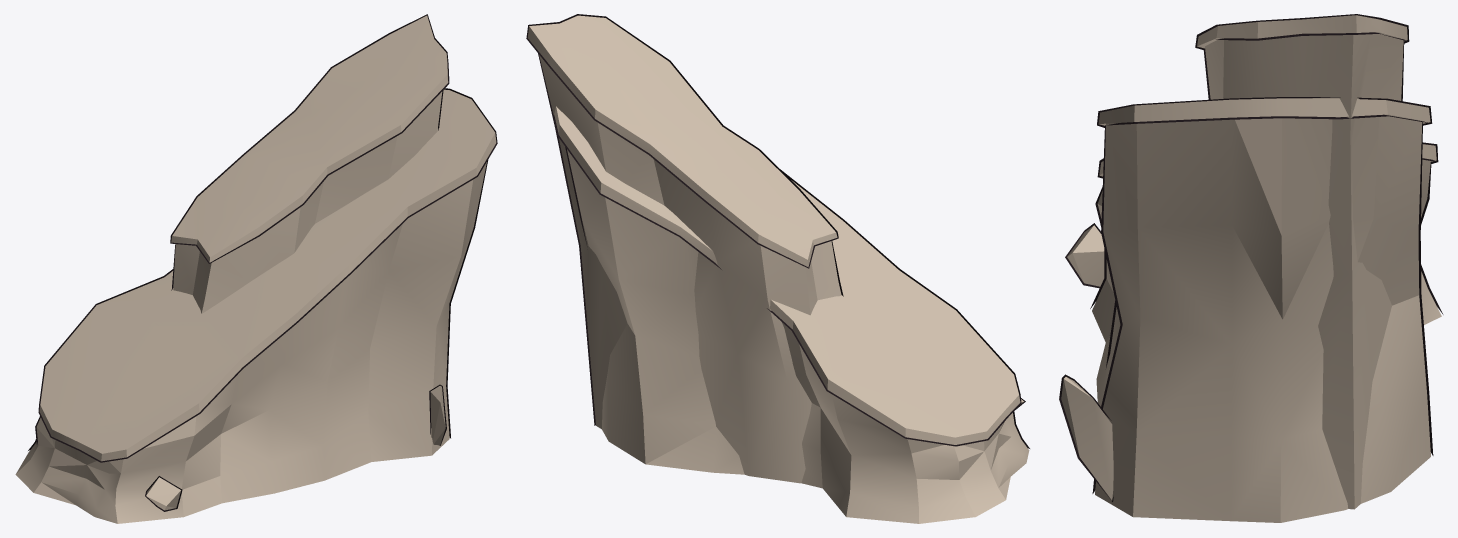
Rendered from SM_Mtn_Slab_01.fbx.
3 views of the same model, side by side, from view 1: azimuth 30°, elevation 25°; view 2: azimuth 150°, elevation 25°; view 3: azimuth 270°, elevation 25° (orthographic). The views are drawn at different scales.
Parts seen in each view (by area): view 1: SM_Mtn_Slab_01; view 2: SM_Mtn_Slab_01; view 3: SM_Mtn_Slab_01.
Part boxes in pixels (left/top/right/bottom): SM_Mtn_Slab_01: left=15, top=14, right=497, bottom=523; SM_Mtn_Slab_01: left=526, top=14, right=1029, bottom=523; SM_Mtn_Slab_01: left=1059, top=14, right=1443, bottom=522.
Size of the model in its own units: 71.92 by 57.97 by 37.33.
